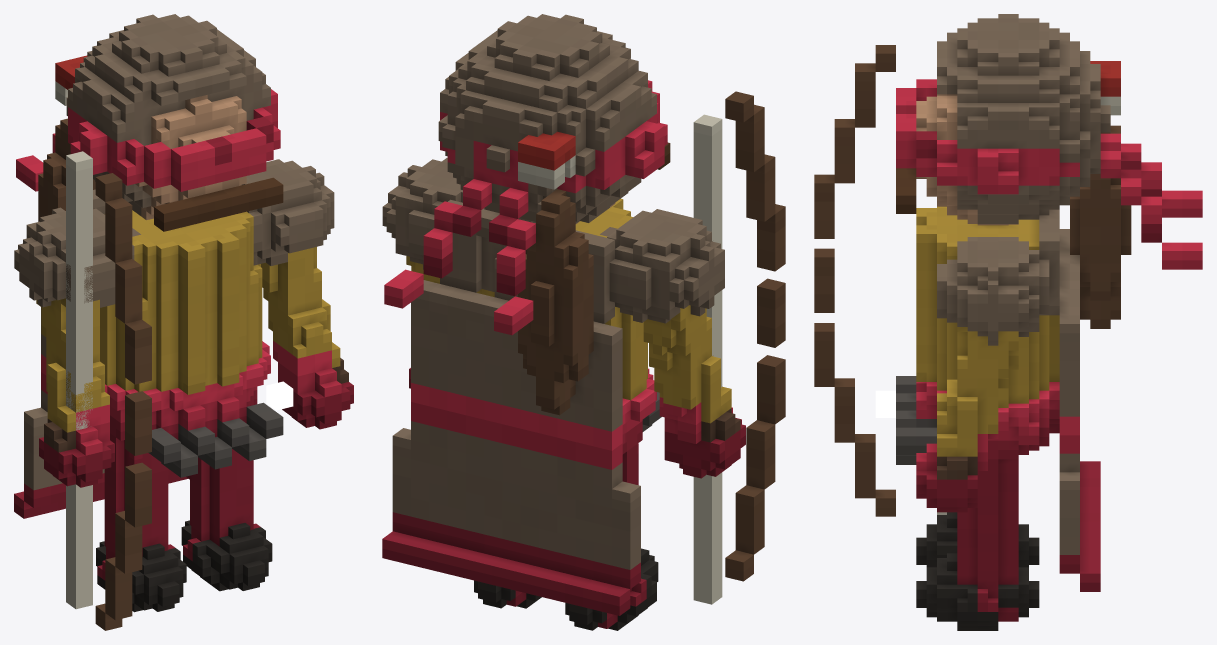
Rendered from u_trappeur__lame.glb.
The picture shows the model from 3 angles, left to right: view 1: azimuth 30°, elevation 25°; view 2: azimuth 150°, elevation 25°; view 3: azimuth 270°, elevation 25°; orthographic projection. The views are drawn at different scales.
Visible parts, largest first — view 1: trappeur_body, trappeur_weapon, trappeur_glow; view 2: trappeur_body, trappeur_weapon; view 3: trappeur_body, trappeur_weapon, trappeur_glow.
Part boxes in pixels (left/top/right/bottom): trappeur_body: left=14, top=14, right=353, bottom=612; trappeur_weapon: left=66, top=151, right=151, bottom=630; trappeur_glow: left=266, top=381, right=293, bottom=410; trappeur_body: left=382, top=14, right=745, bottom=630; trappeur_weapon: left=693, top=91, right=785, bottom=604; trappeur_body: left=896, top=14, right=1202, bottom=630; trappeur_weapon: left=814, top=45, right=946, bottom=516; trappeur_glow: left=875, top=390, right=895, bottom=417.
Bounding box in the file's own units: 0.85 × 1.52 × 0.95.
